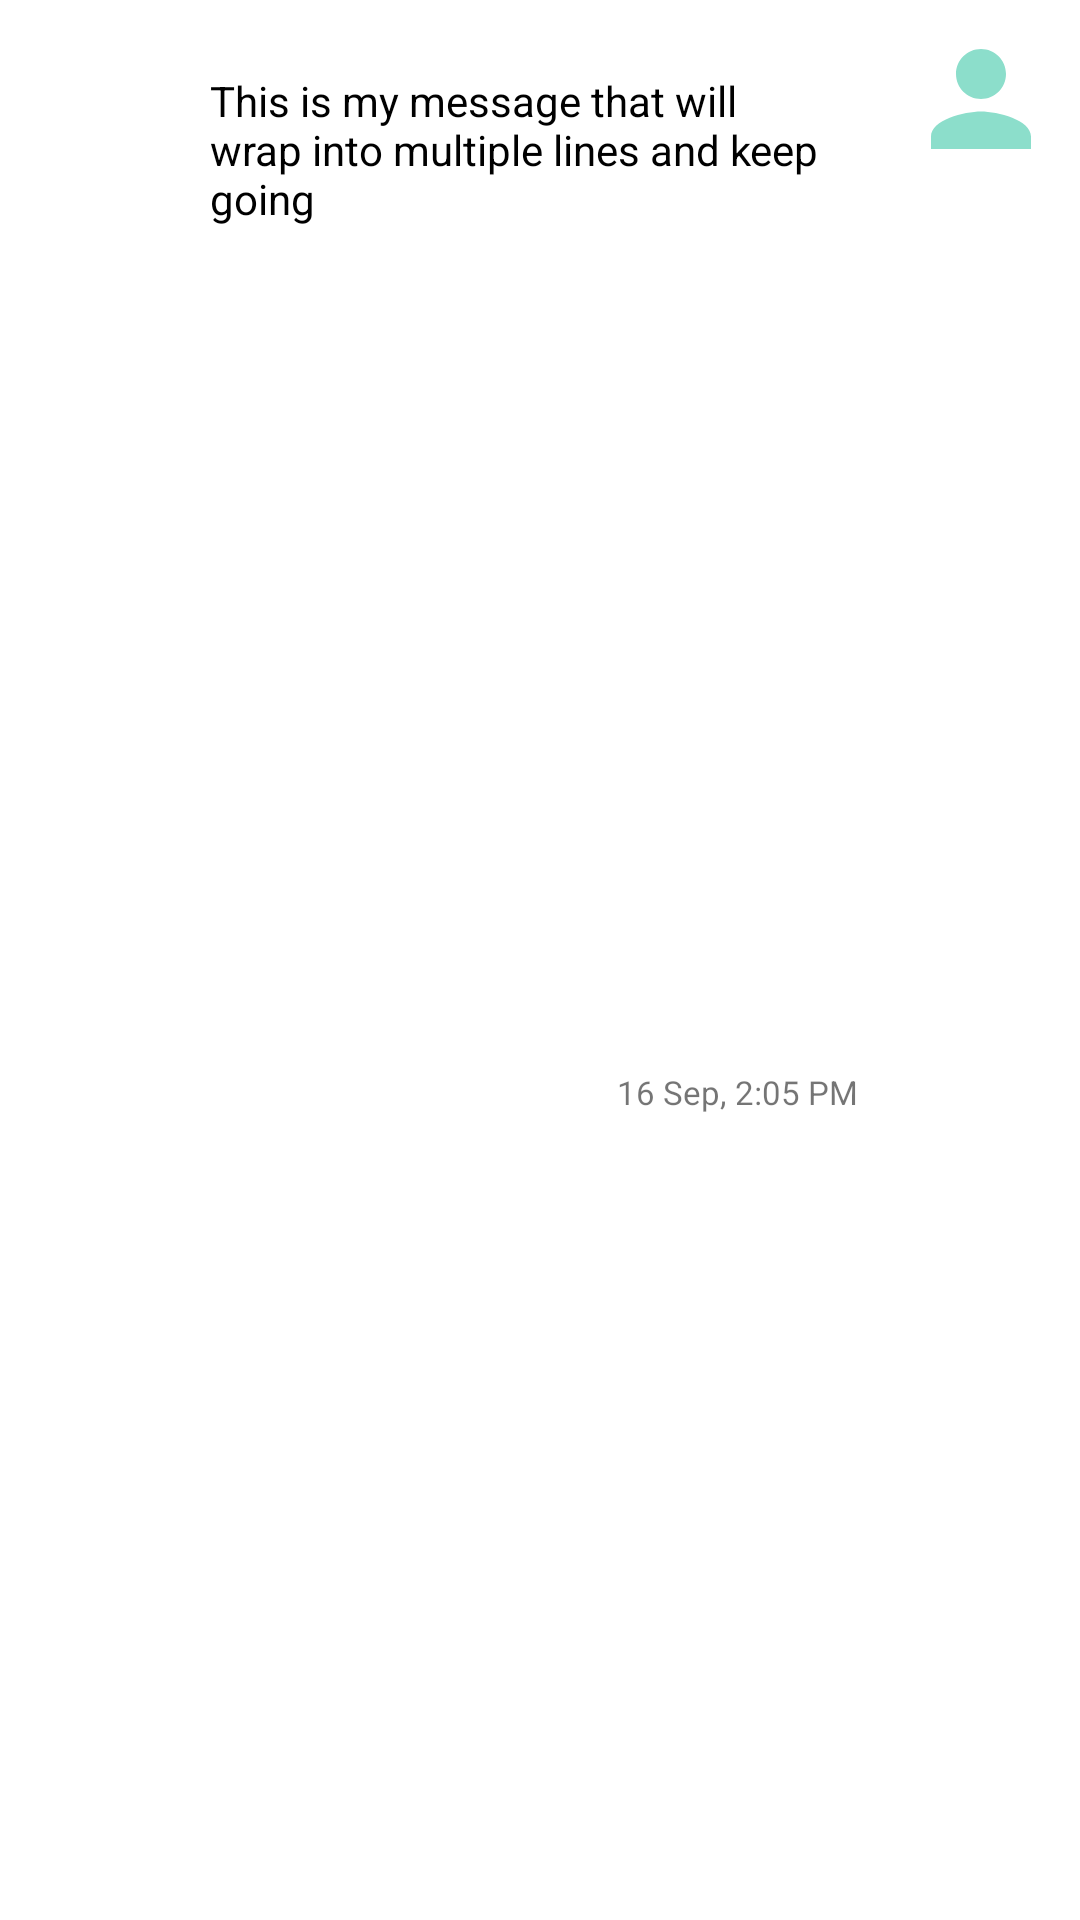

Icons on this 1080 × 1920 Android screen, each with the point to tap as (x,y):
person: (981,99)
